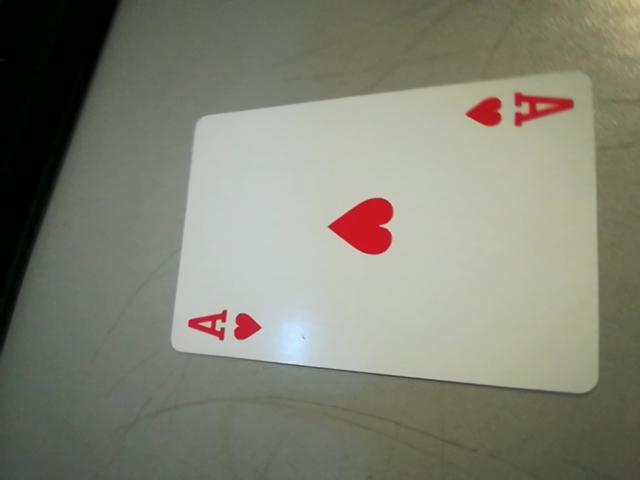hx a: (174, 304, 267, 353)
